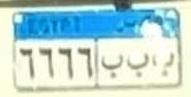6: (57, 46, 75, 81), (18, 46, 36, 79), (38, 46, 55, 79), (78, 45, 93, 78)
baa: (151, 51, 177, 78), (126, 52, 150, 78), (100, 52, 123, 79)
